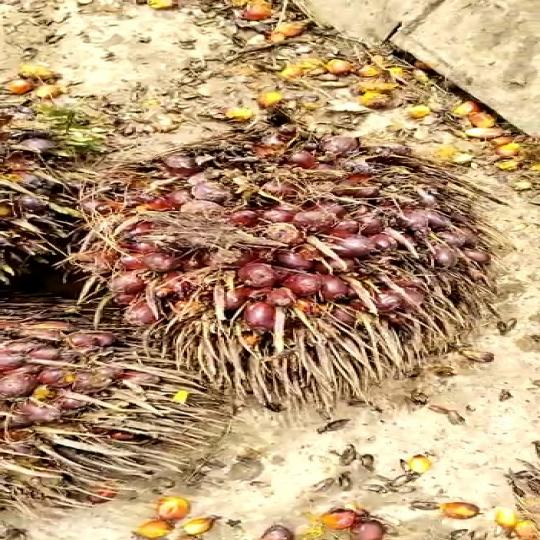masak: (72, 119, 490, 422)
